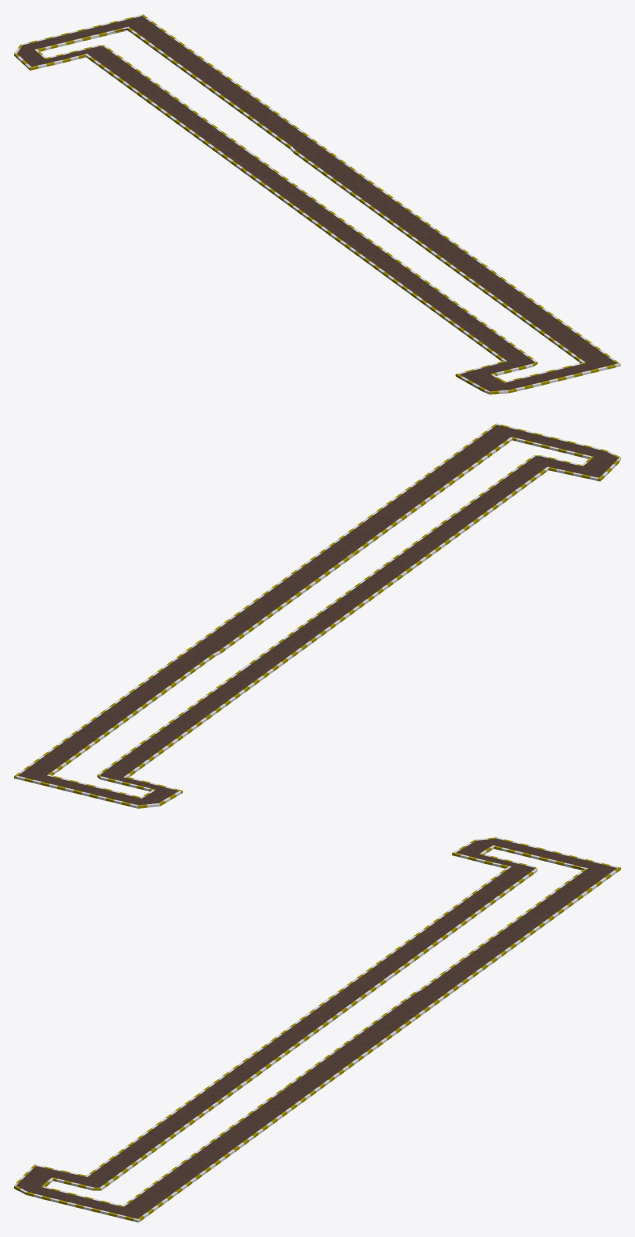
The model's file is road curbs.fbx.
3 views of the same model, one above another, from view 1: azimuth 30°, elevation 25°; view 2: azimuth 150°, elevation 25°; view 3: azimuth 330°, elevation 25° (orthographic).
Visible parts, largest first — view 1: Road_Curb, White, Yellow; view 2: Road_Curb, Yellow, White; view 3: Road_Curb, White, Yellow.
Boxes of the visible parts, x1,y1,x2,y2 form: Road_Curb: [17, 16, 616, 391]; White: [14, 14, 619, 394]; Yellow: [14, 15, 620, 394]; Road_Curb: [18, 425, 618, 805]; Yellow: [16, 423, 620, 808]; White: [14, 424, 620, 808]; Road_Curb: [16, 838, 616, 1218]; White: [14, 837, 620, 1221]; Yellow: [14, 837, 618, 1222].
Size of the model in its own units: 12.45 by 0.2008 by 73.49.
Materials: 3 (1 with a texture image).
